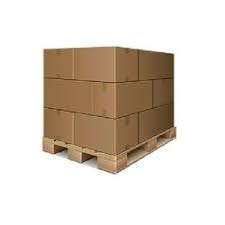box: (42, 78, 93, 115), (74, 112, 116, 156), (74, 45, 114, 84), (139, 103, 174, 144), (114, 81, 152, 117), (40, 107, 74, 147), (139, 48, 174, 79), (42, 47, 74, 80), (115, 112, 138, 156), (114, 45, 139, 83), (92, 82, 114, 120), (152, 81, 174, 108)
pallet: (39, 124, 178, 175)
